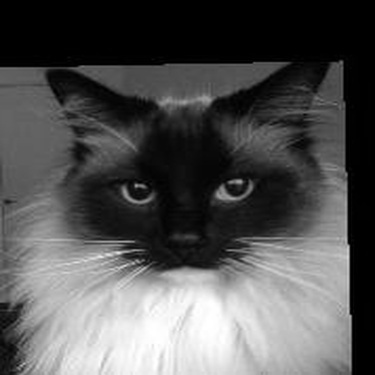cat: (11, 59, 346, 372)
